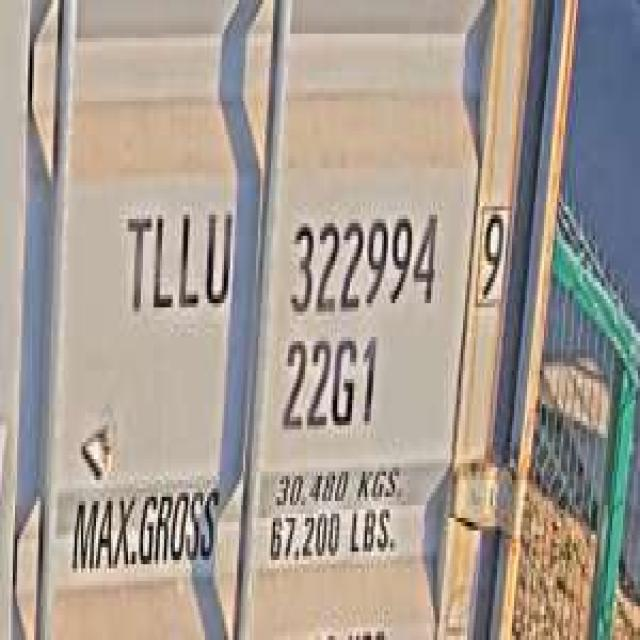dv: (469, 189, 514, 320)
owner: (117, 190, 237, 324)
serial: (284, 198, 442, 320)
size: (277, 328, 380, 438)
